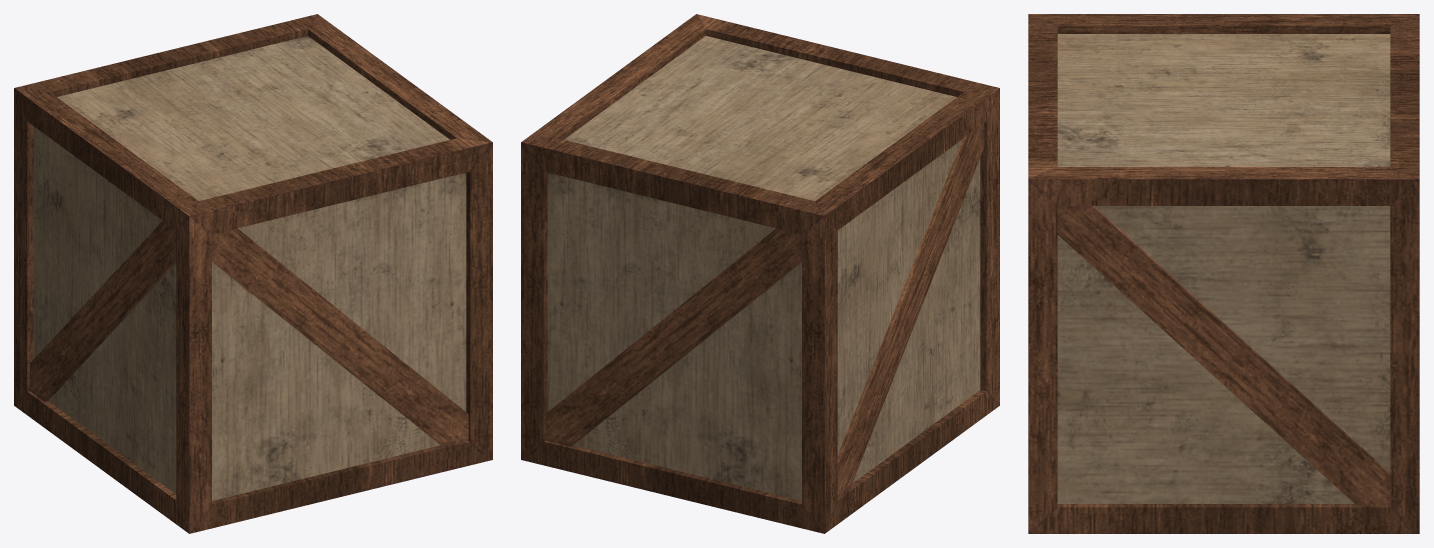
The model's file is Crate.fbx.
3 views of the same model, side by side, from view 1: azimuth 30°, elevation 25°; view 2: azimuth 150°, elevation 25°; view 3: azimuth 270°, elevation 25° (orthographic). The views are drawn at different scales.
Visible parts, largest first — view 1: Crate; view 2: Crate; view 3: Crate.
Boxes of the visible parts, box(x1,y1,x2,y2) form: Crate: box(14, 14, 492, 533); Crate: box(521, 14, 999, 533); Crate: box(1028, 14, 1419, 533).
Size of the model in its own units: 117 by 117 by 117.
1 material, 1 textured.
